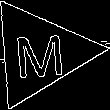M_N: (12, 26, 67, 79)
